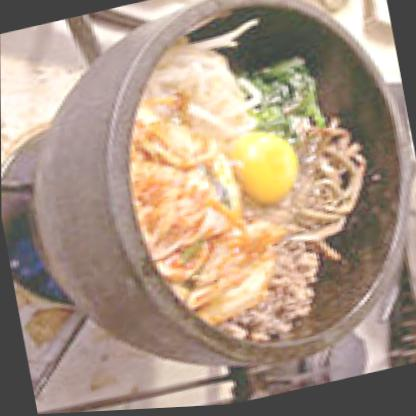bibimbap: (93, 0, 392, 372)
